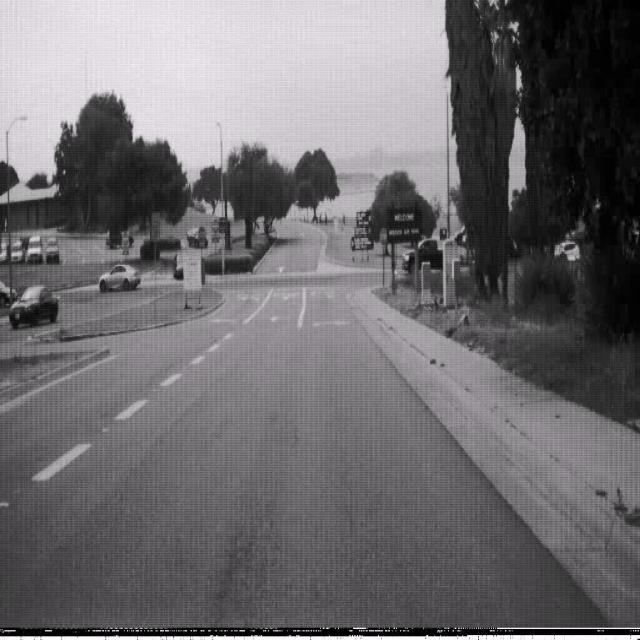stop_sign: (379, 226, 389, 247), (197, 226, 206, 244)
